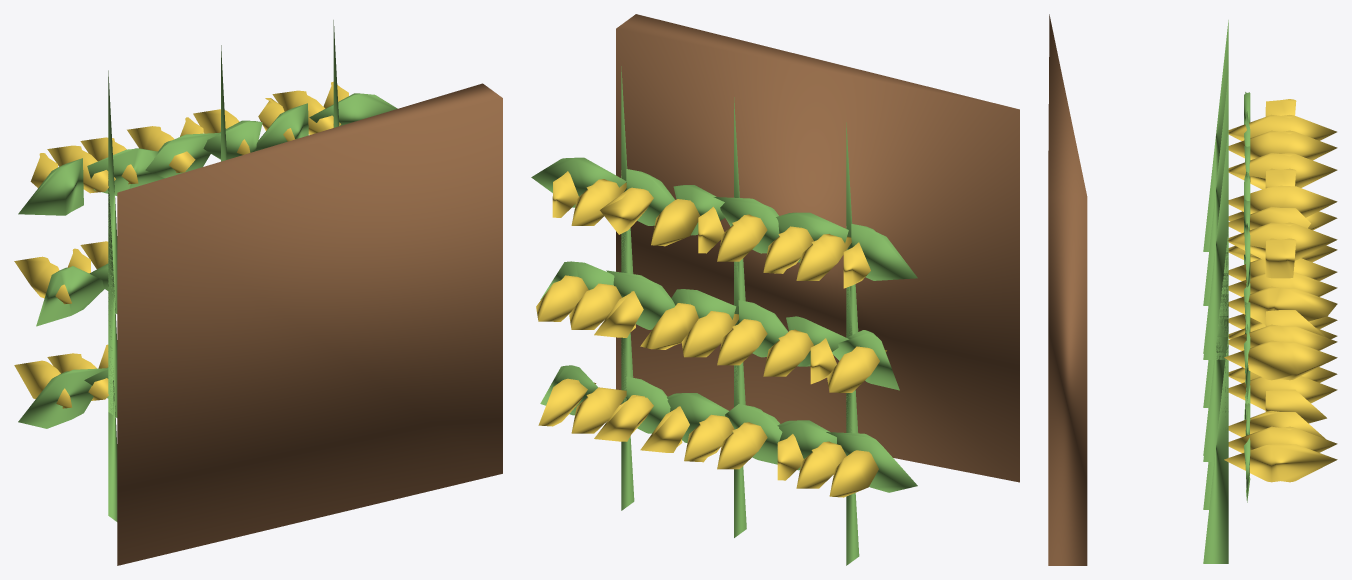
Rendered from corn_ripe.glb.
The picture shows the model from 3 angles, left to right: view 1: azimuth 30°, elevation 25°; view 2: azimuth 150°, elevation 25°; view 3: azimuth 270°, elevation 25°; orthographic projection.
Visible parts, largest first — view 1: Soil, Leaf, Leaf.004, Leaf.002, Leaf.005, Leaf.010, Stem.001, Leaf.017, Leaf.016, Leaf.011, Stem.002, Cob.007 (+8 smaller); view 2: Soil, Leaf.004, Leaf, Leaf.014, Leaf.017, Cob.013, Cob.019, Cob.017, Cob.003, Cob, Cob.007, Cob.014 (+42 smaller); view 3: Soil, Stem.006, Stem.008, Cob.023, Cob.020, Cob.014, Stem.007, Cob.025, Cob.015, Cob.008, Cob.017, Cob.010 (+18 smaller).
Boxes of the visible parts, x1,y1,x2,y2 form: Soil: [117, 83, 502, 565]; Leaf: [18, 368, 107, 428]; Leaf.004: [18, 158, 83, 215]; Leaf.002: [36, 266, 105, 326]; Leaf.005: [87, 148, 164, 195]; Leaf.010: [145, 133, 220, 178]; Stem.001: [108, 174, 117, 417]; Leaf.017: [309, 93, 397, 125]; Leaf.016: [256, 103, 308, 150]; Leaf.011: [203, 120, 262, 159]; Stem.002: [108, 70, 117, 313]; Cob.007: [47, 145, 115, 193]; Soil: [616, 14, 1019, 482]; Leaf.004: [851, 224, 917, 280]; Leaf: [826, 432, 917, 492]; Leaf.014: [606, 270, 675, 329]; Leaf.017: [531, 157, 626, 207]; Cob.013: [681, 311, 738, 357]; Cob.019: [571, 387, 626, 433]; Cob.017: [651, 199, 700, 246]; Cob.003: [827, 346, 887, 392]; Cob: [829, 450, 878, 497]; Cob.007: [796, 234, 851, 280]; Cob.014: [640, 303, 698, 349]; Soil: [1048, 14, 1087, 565]; Stem.006: [1203, 332, 1228, 563]; Stem.008: [1203, 128, 1228, 359]; Cob.023: [1224, 340, 1337, 380]; Cob.020: [1224, 443, 1337, 482]; Cob.014: [1228, 286, 1337, 324]; Stem.007: [1203, 230, 1228, 461]; Cob.025: [1227, 222, 1337, 260]; Cob.015: [1228, 153, 1337, 189]; Cob.008: [1228, 130, 1337, 160]; Cob.017: [1228, 185, 1337, 217]; Cob.010: [1228, 376, 1337, 410].
Size of the model in its own units: 1.17 by 1.29 by 0.772.
